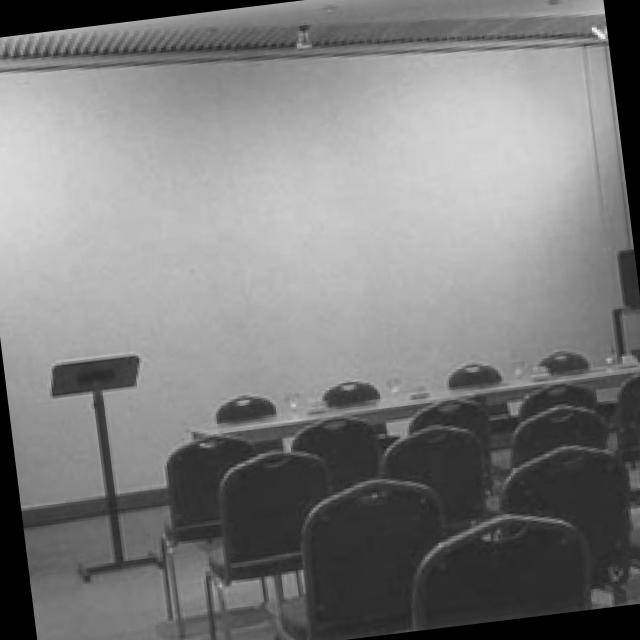2001: (0, 58, 122, 640), (133, 106, 191, 372)
carpet: (185, 217, 385, 640)
